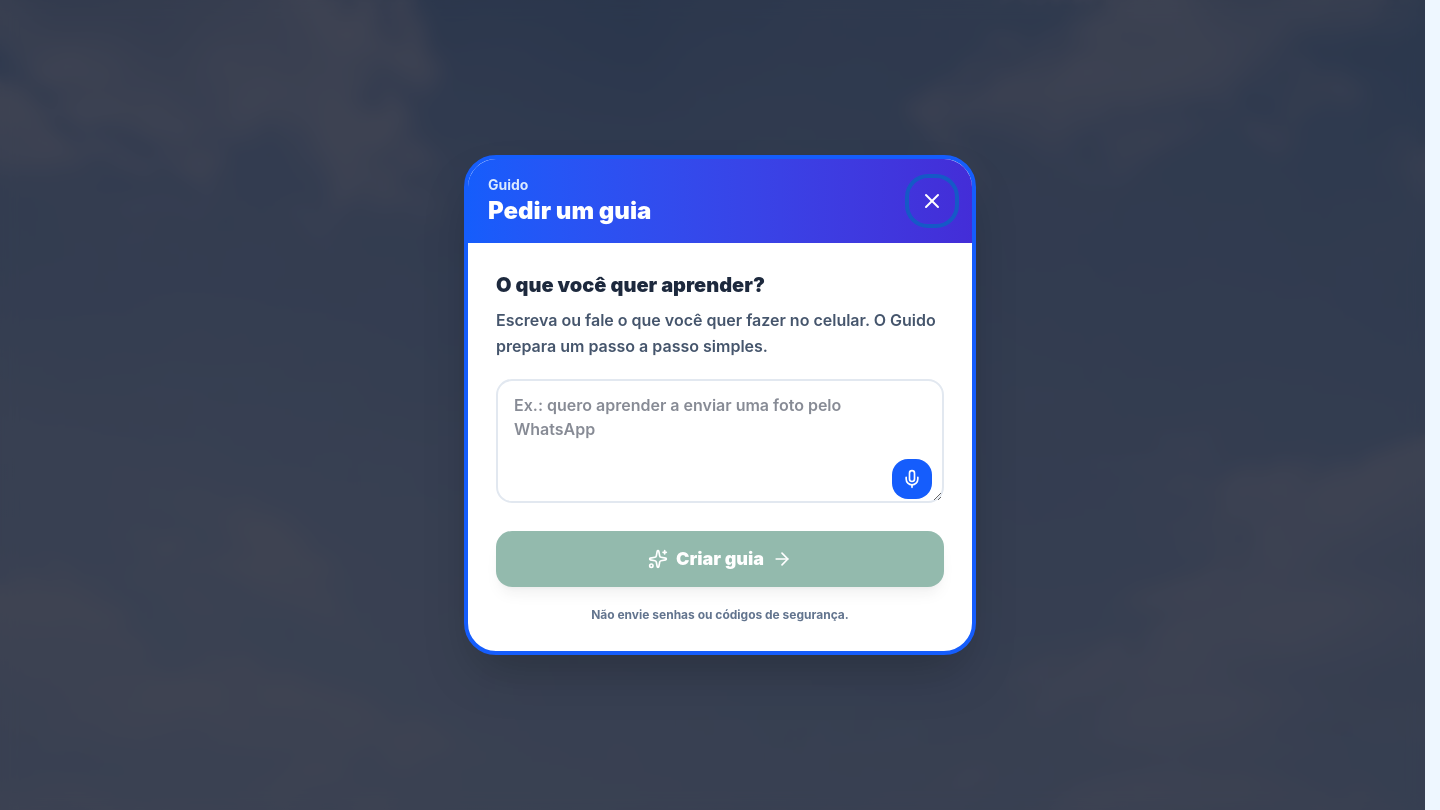
Test: GuideRequestModal › habilita a criação quando o usuário descreve o que quer aprender
Type "Enviar uma foto" into the text box named "O que você quer aprender?" at (720, 441), box [496,379,944,503]
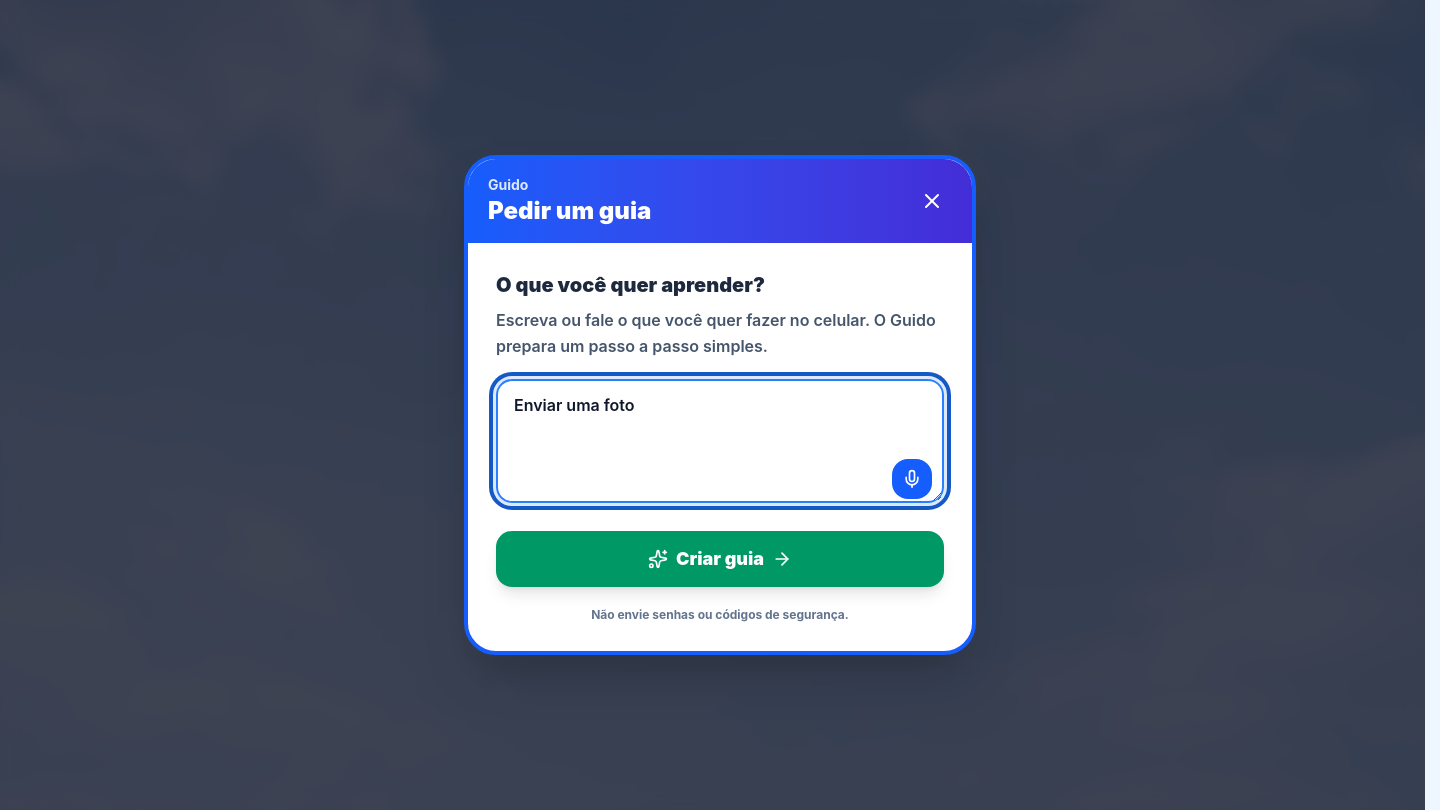
Check: the button "Criar guia" is enabled, box [496,531,944,587]
